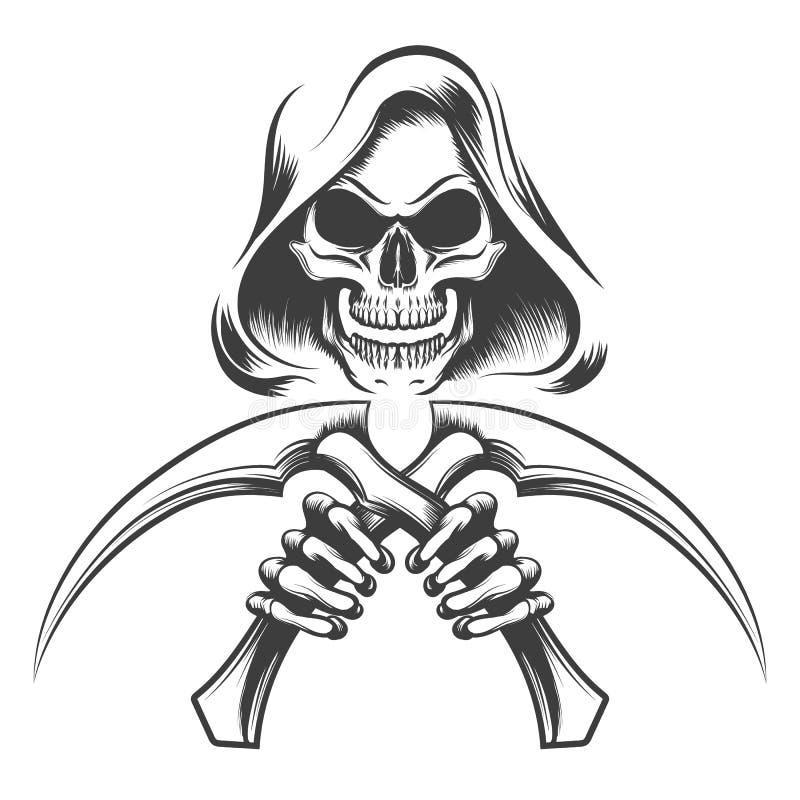foice: (191, 370, 764, 770), (33, 390, 612, 761)
